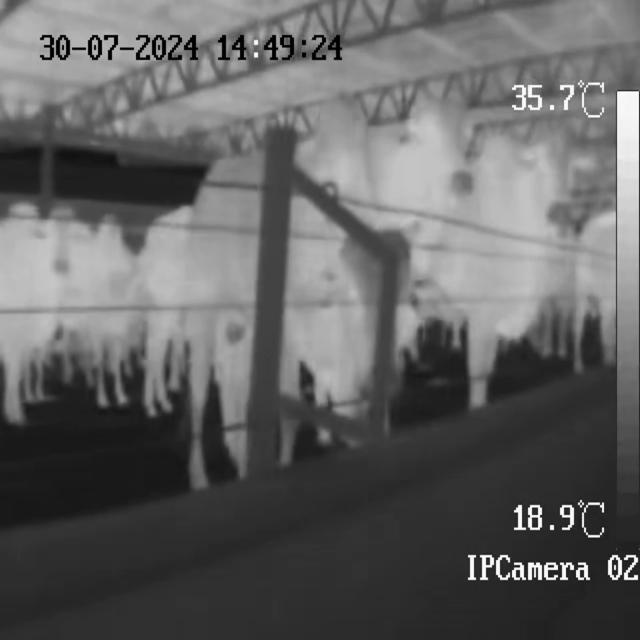eye: (423, 114, 441, 145), (537, 150, 555, 177)
head: (411, 93, 482, 204), (528, 132, 584, 232)
